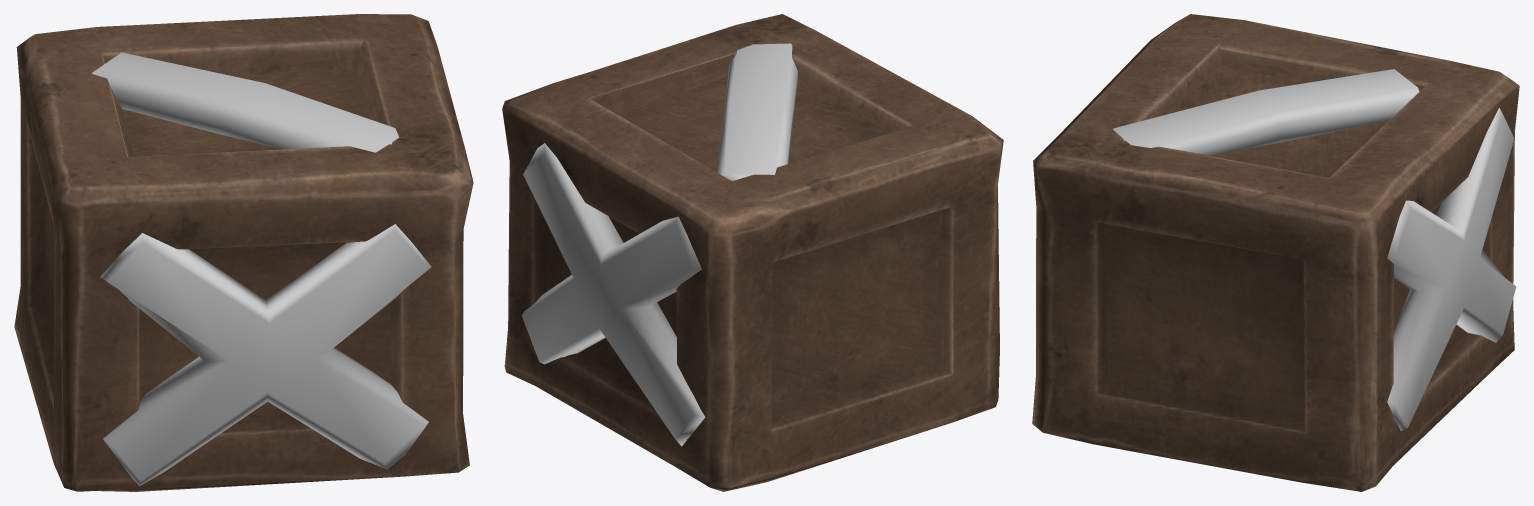
The model's file is BOXTEST.fbx.
3 renders of one model, left to right at view 1: azimuth 30°, elevation 25°; view 2: azimuth 150°, elevation 25°; view 3: azimuth 270°, elevation 25°, orthographic. The views are drawn at different scales.
Parts seen in each view (by area): view 1: box1; view 2: box1; view 3: box1.
Part boxes in pixels (x1=…): box1: x1=14, y1=14, x2=473, y2=491; box1: x1=502, y1=14, x2=1003, y2=491; box1: x1=1032, y1=14, x2=1519, y2=491.
Size of the model in its own units: 3.29 by 2.25 by 3.25.
